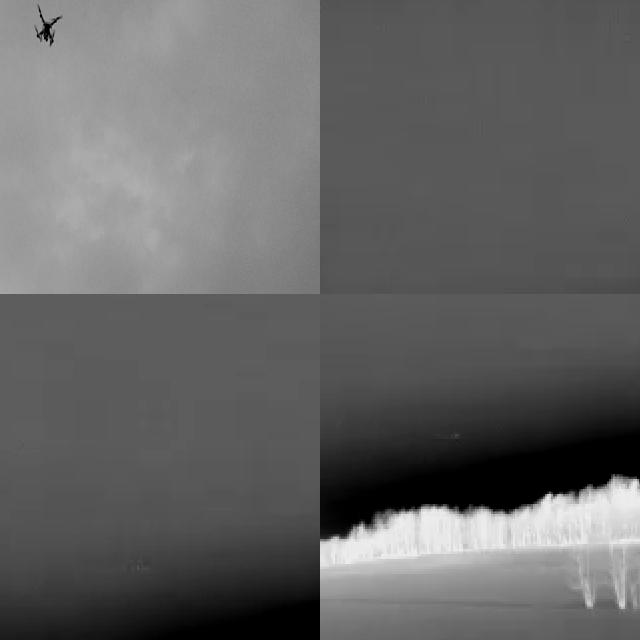0: (441, 422, 471, 454), (132, 558, 160, 590)
drone: (26, 2, 64, 49)
